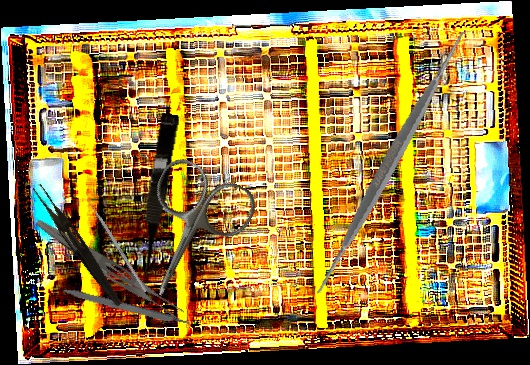Dressing Forceps: (31, 215, 187, 324), (27, 182, 129, 309)
Iris Scissors: (113, 152, 263, 317)
Micro Scissor: (131, 112, 180, 281)
Pusher: (81, 191, 148, 293)
Scalpel Handle: (58, 285, 192, 330)
Spatula Surgical: (259, 28, 524, 297)
